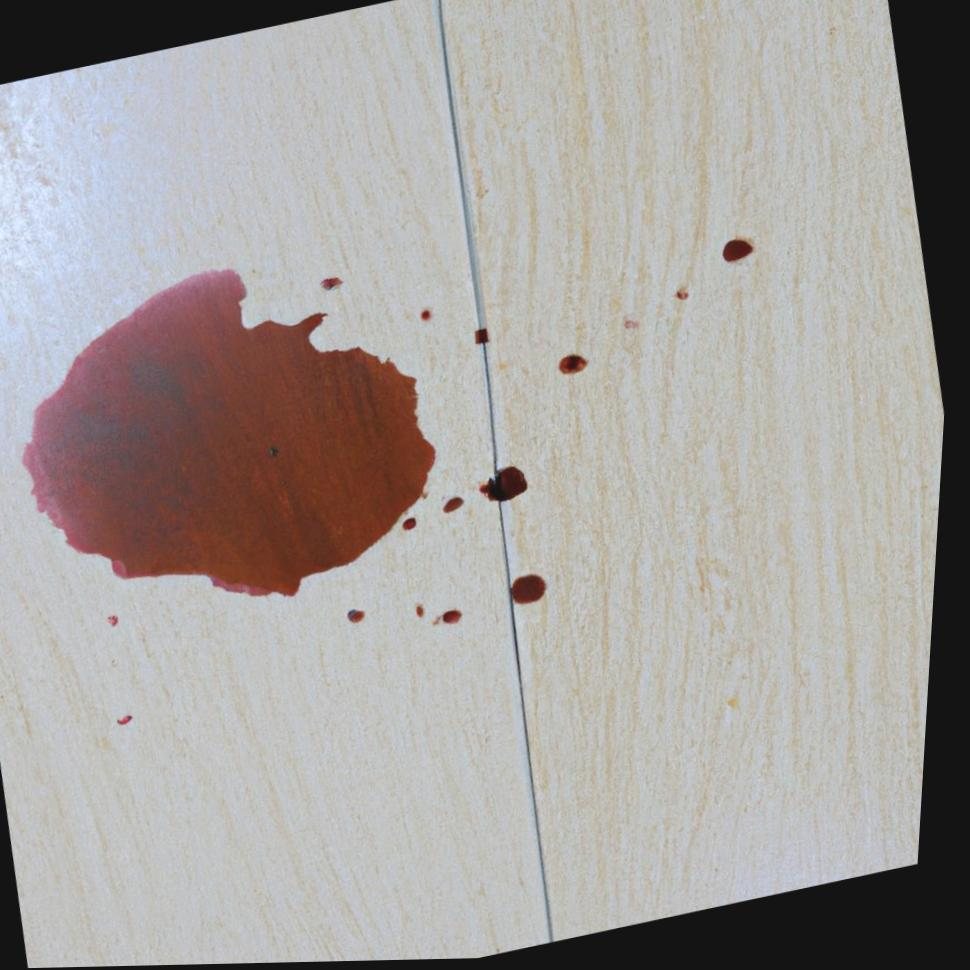Fire: (28, 269, 442, 598), (486, 469, 535, 505), (518, 576, 555, 608), (726, 243, 757, 266), (563, 357, 593, 377), (448, 499, 471, 516), (450, 612, 471, 626), (408, 519, 424, 532)
